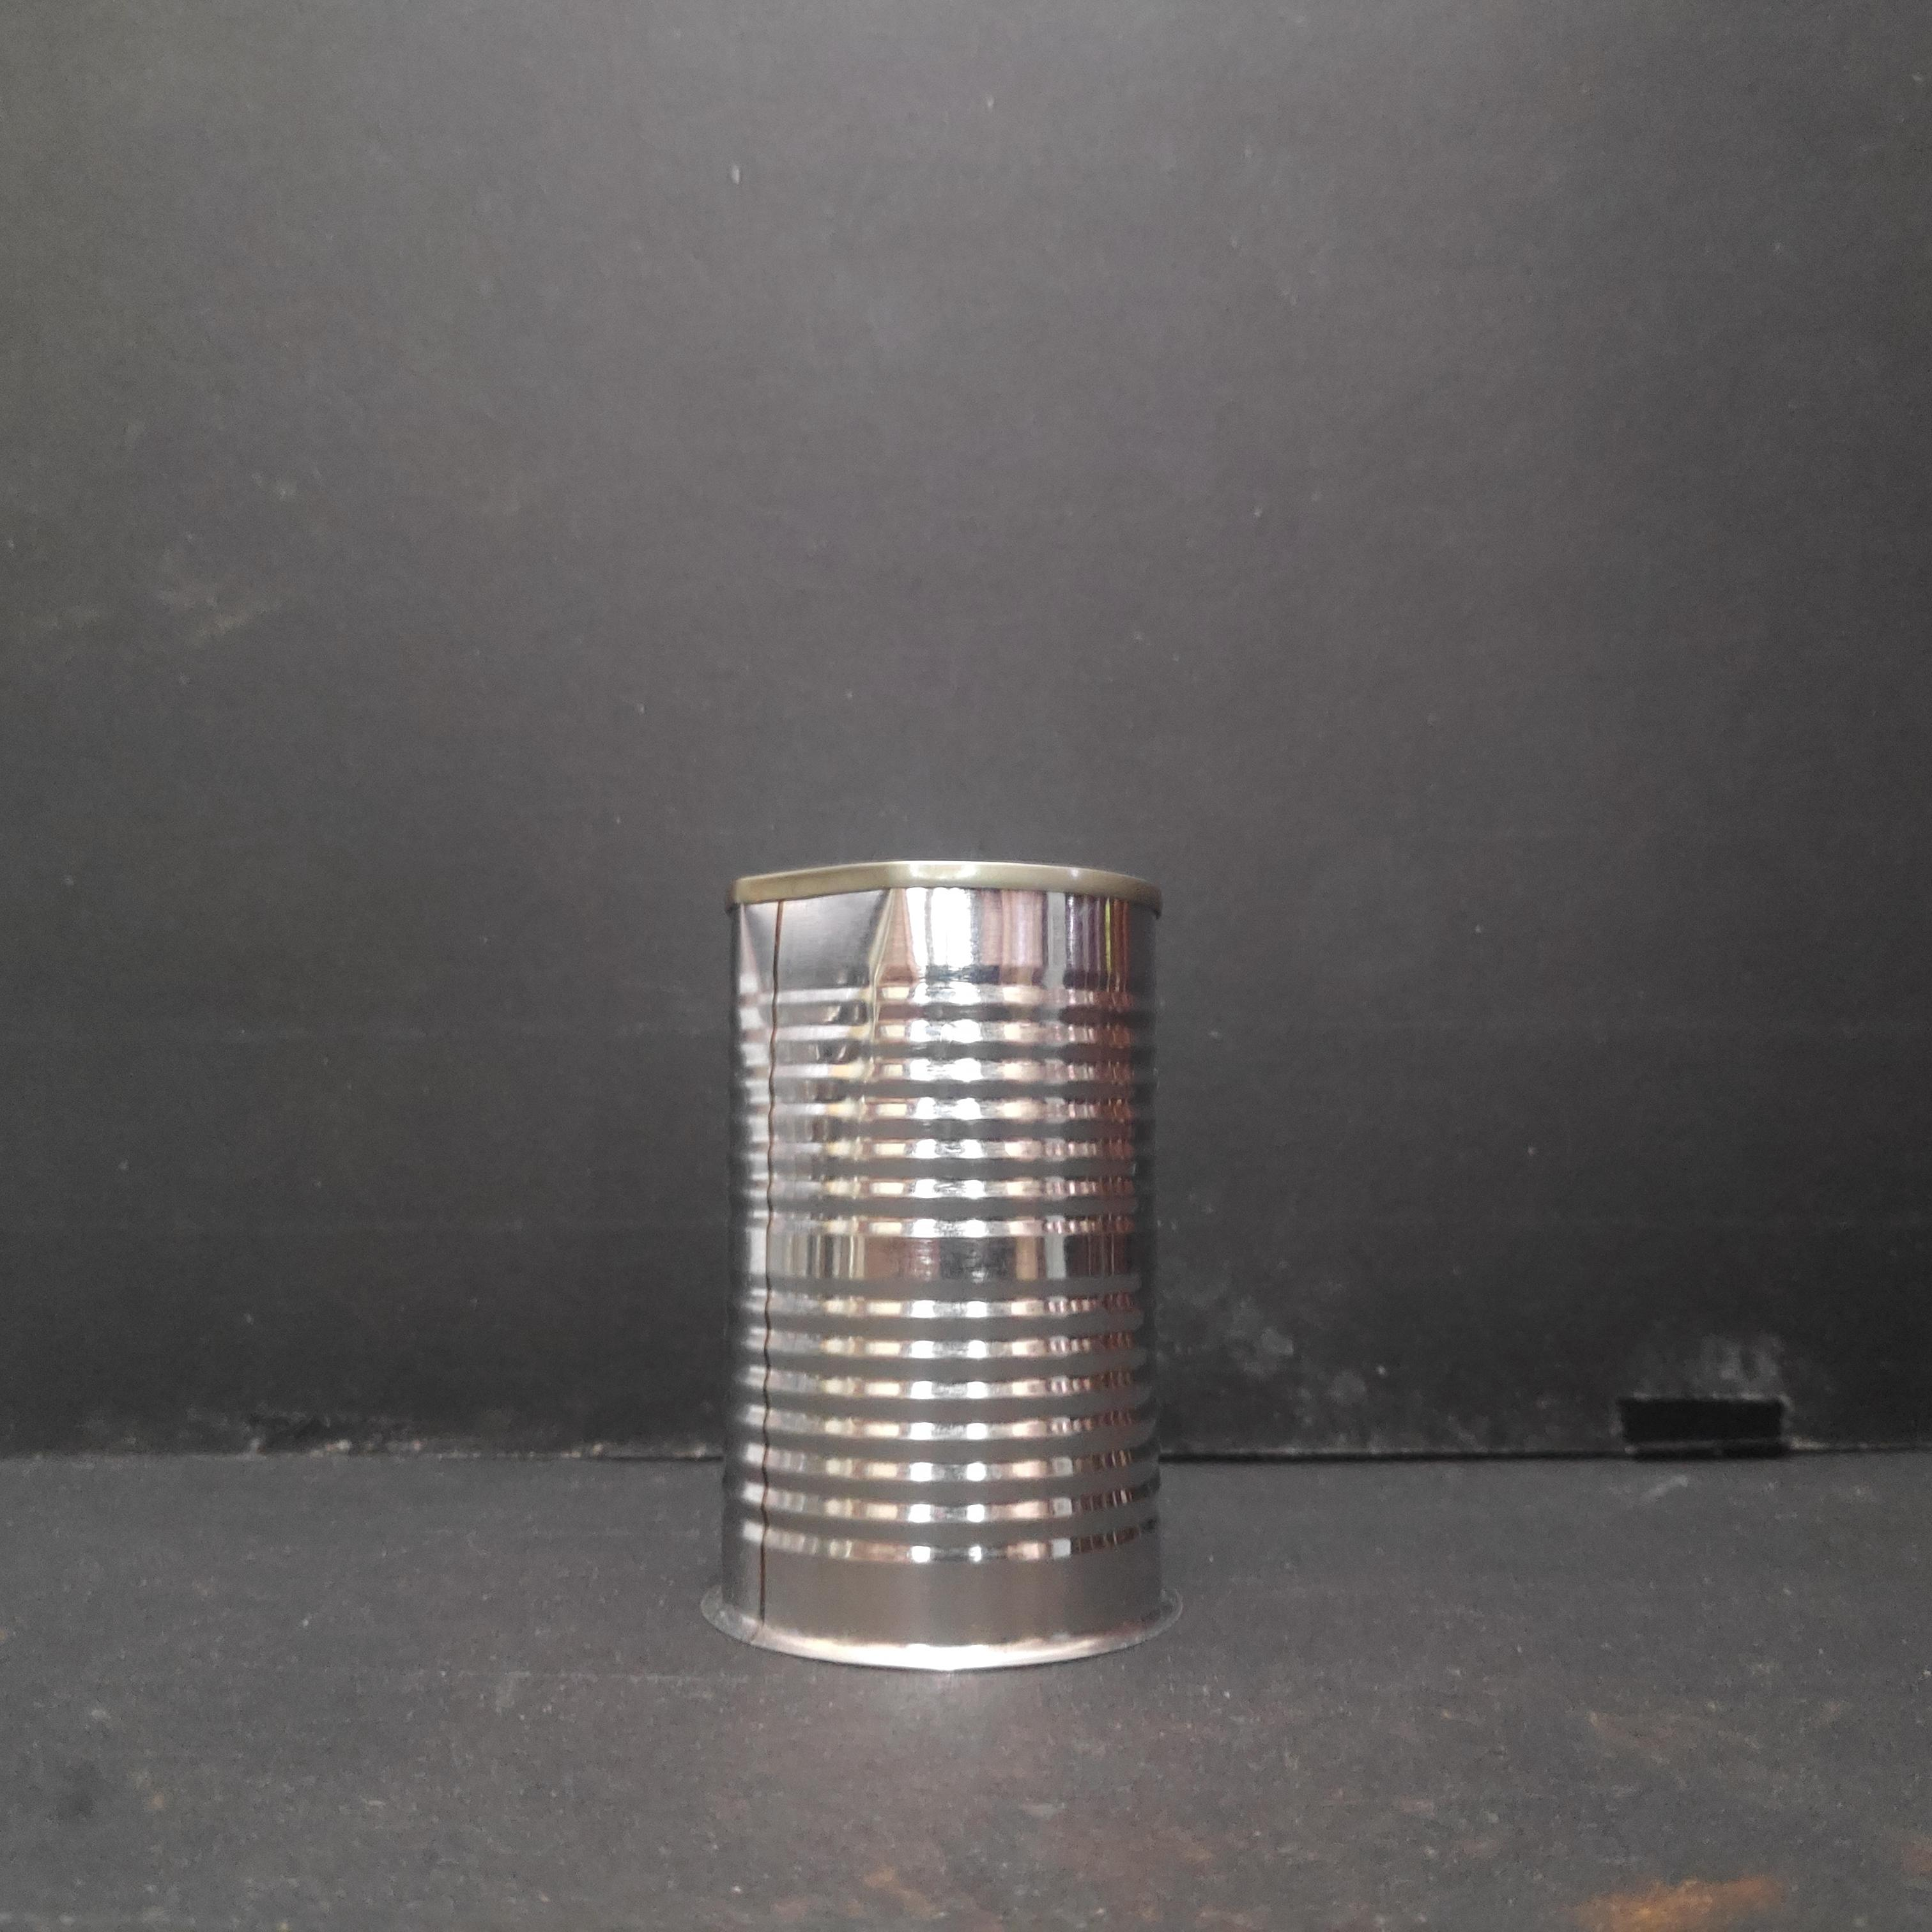Minor Defect: (720, 856, 1177, 1677)
